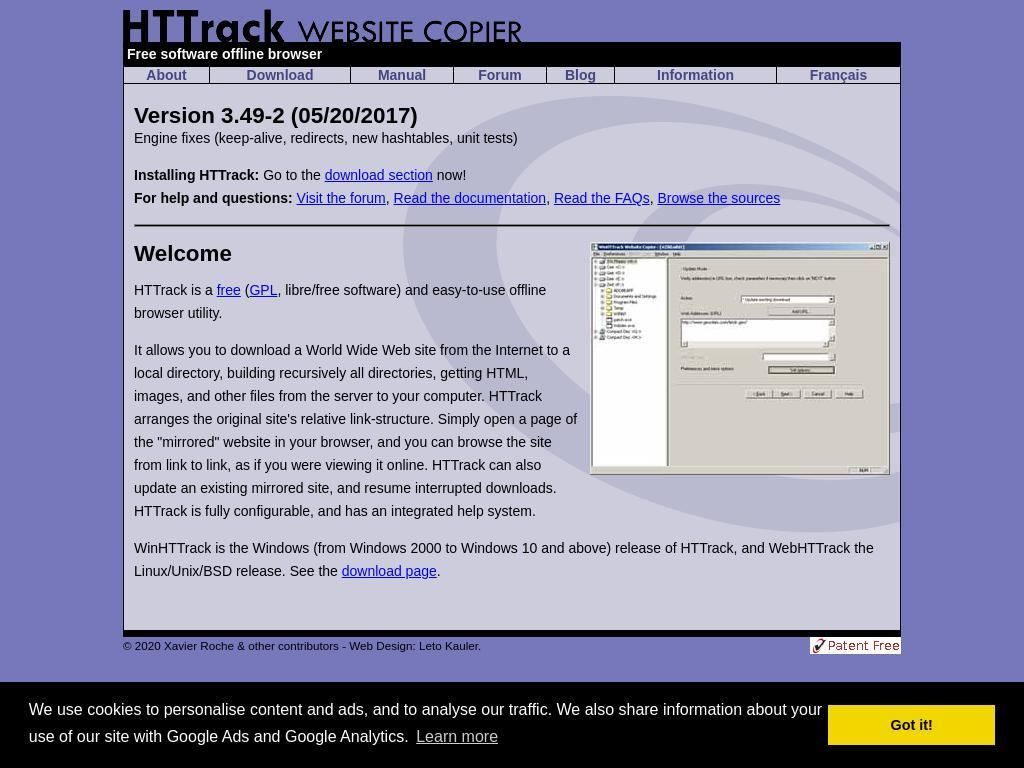button: (828, 705, 996, 745), (413, 721, 502, 753)
heading: (134, 104, 890, 127), (134, 242, 890, 265)
image: (590, 242, 890, 475), (123, 8, 523, 42), (810, 637, 901, 654)
link: (393, 190, 546, 206), (657, 190, 781, 206), (324, 167, 433, 183), (553, 190, 650, 206), (341, 563, 437, 579), (296, 190, 386, 206), (657, 67, 734, 83), (246, 67, 313, 83), (809, 67, 867, 83), (377, 67, 426, 83), (478, 67, 523, 83), (564, 67, 596, 83), (249, 282, 278, 298), (216, 282, 241, 298)
text: (134, 339, 890, 523), (28, 700, 822, 745), (134, 540, 874, 579), (123, 42, 901, 66), (134, 282, 547, 321), (134, 130, 518, 146), (123, 639, 481, 652), (134, 190, 293, 206), (134, 167, 259, 183), (124, 67, 209, 83), (134, 282, 217, 298), (259, 167, 326, 183), (432, 167, 466, 183), (385, 190, 394, 206), (546, 190, 555, 206), (240, 282, 249, 298), (649, 190, 657, 206), (436, 563, 441, 579)
